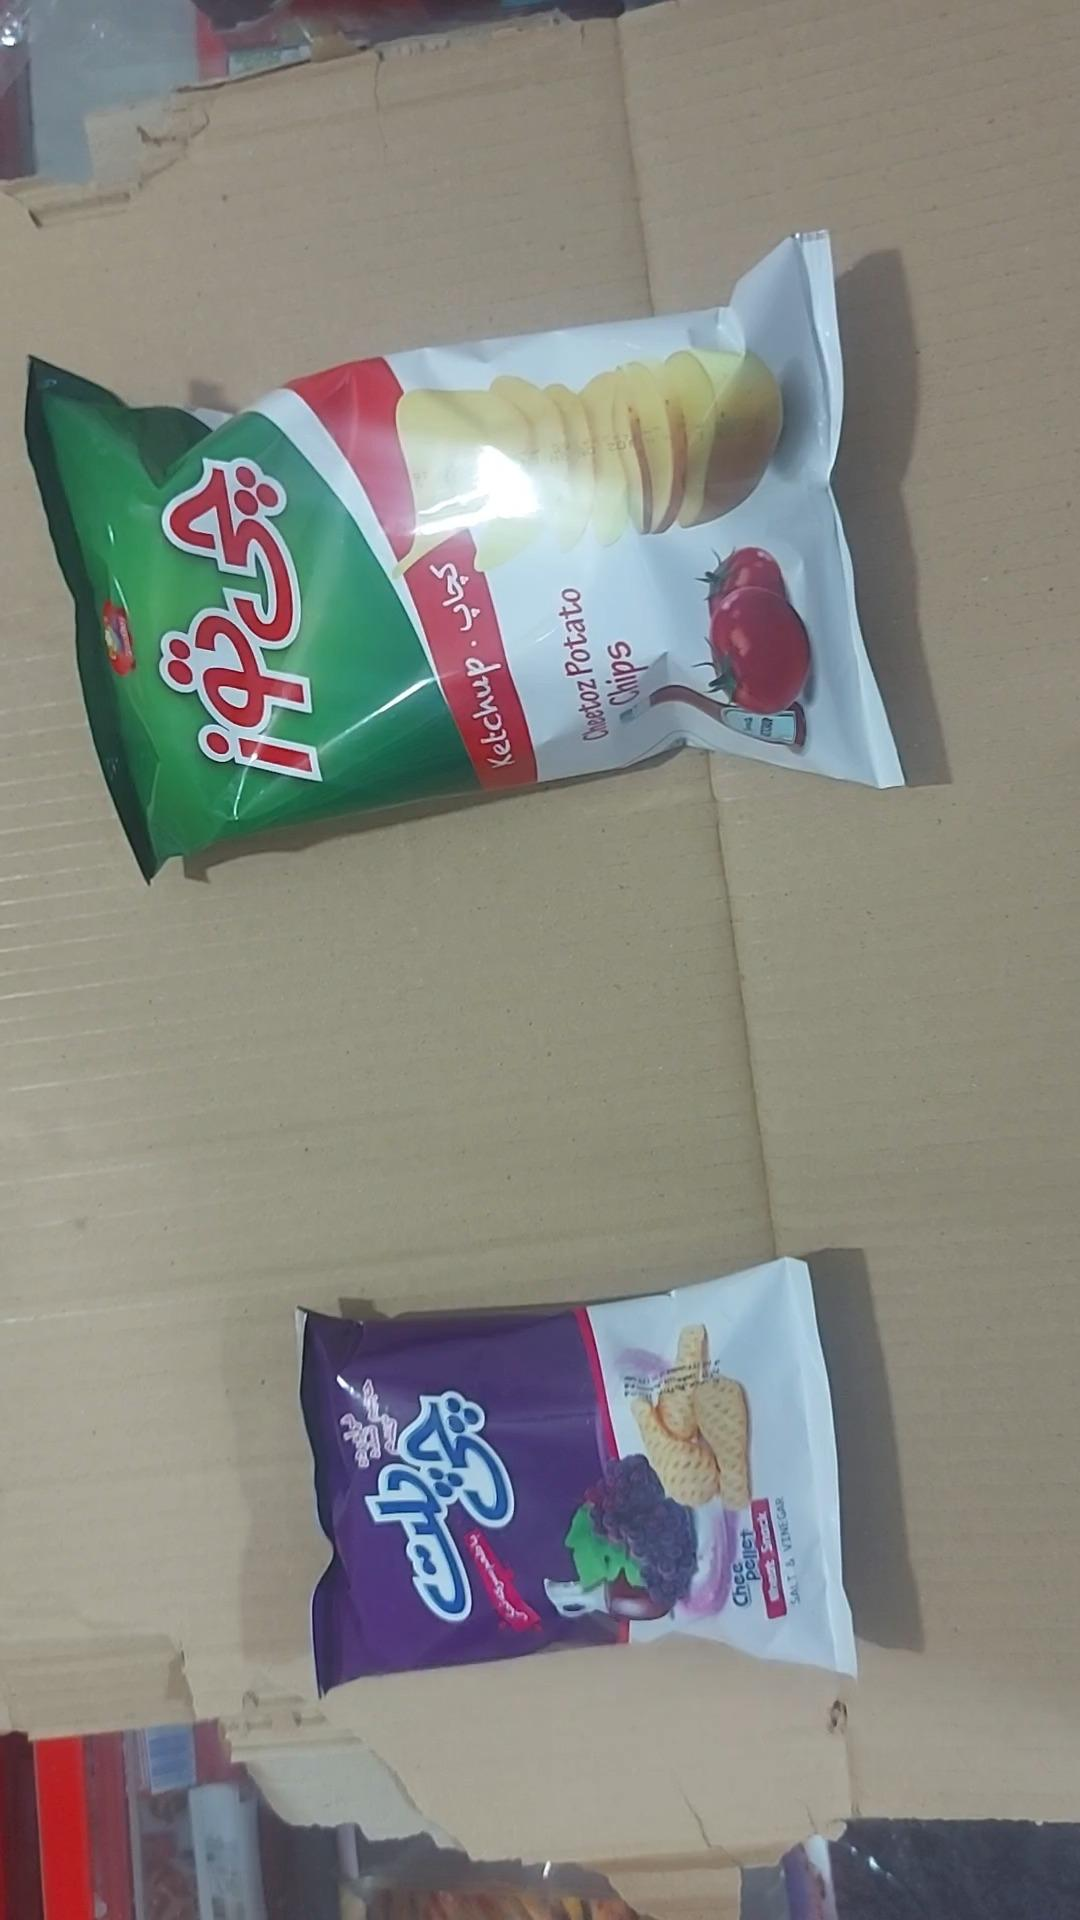Chee pellet vinegar: (301, 1261, 855, 1695)
Cheetoz ketchup chips: (25, 235, 902, 880)
